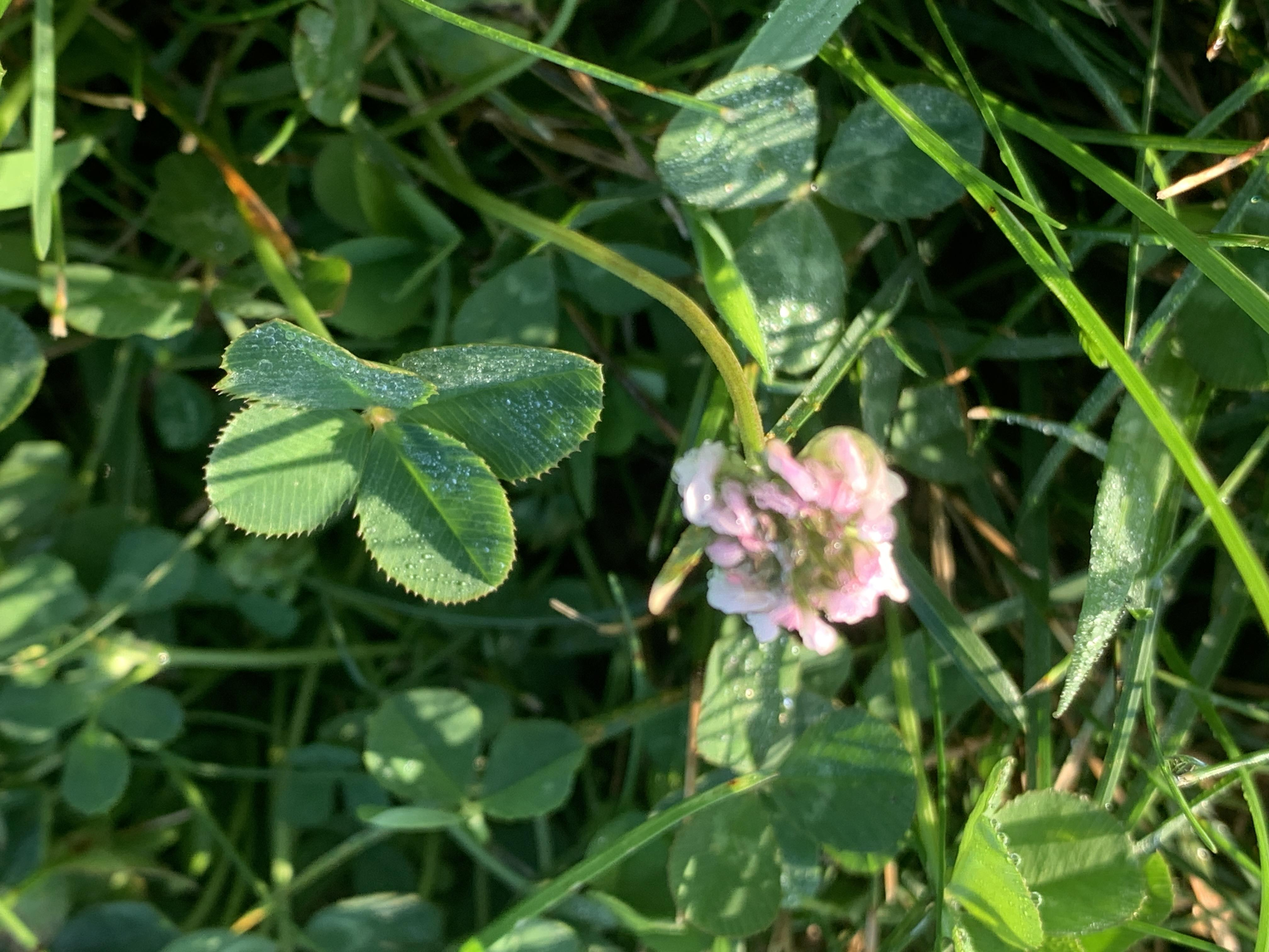4-Leaf-Clovers: (673, 344, 1066, 631)
